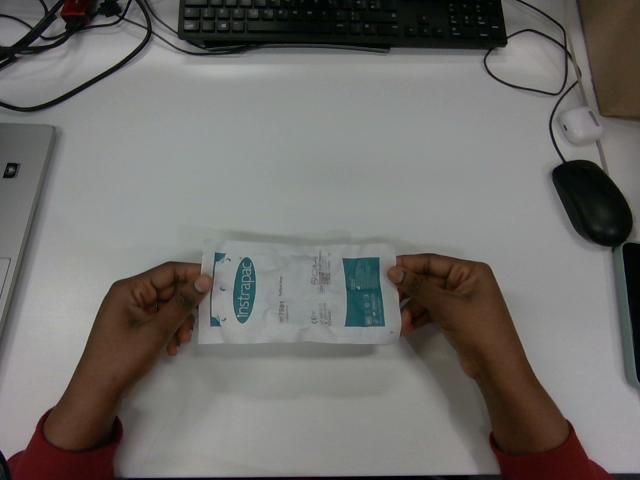gallipot: (198, 240, 400, 343)
